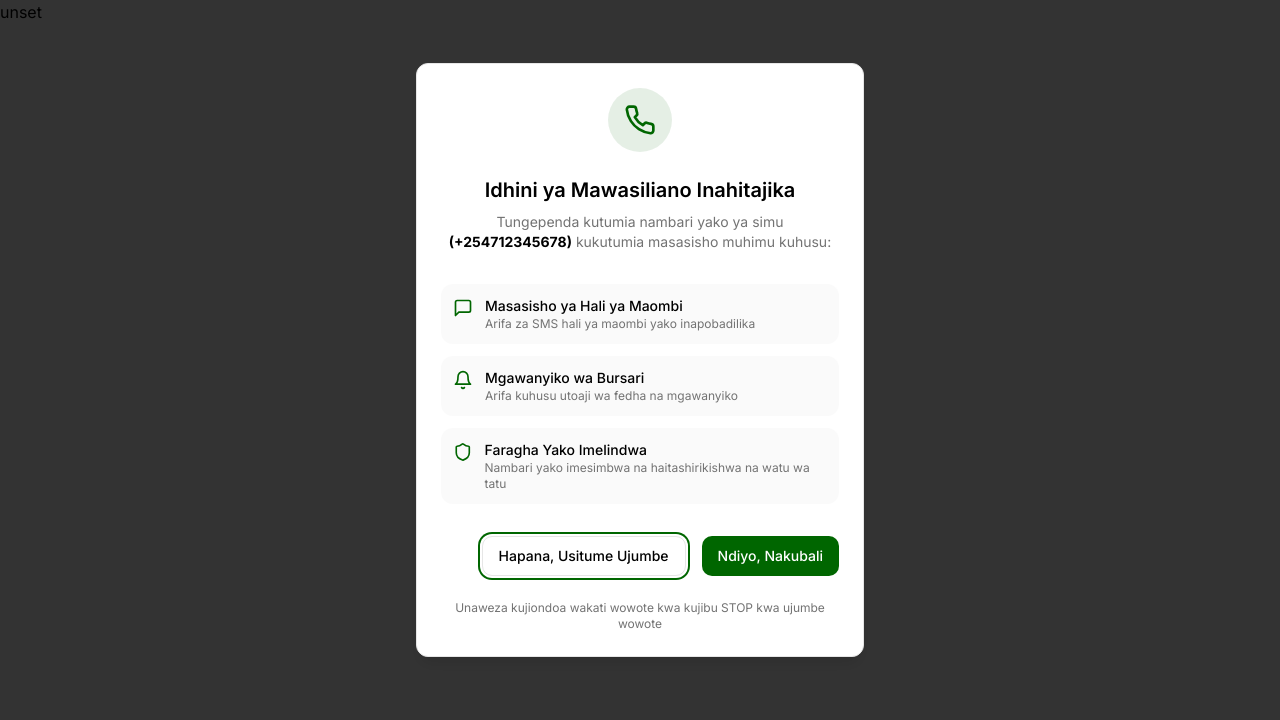
Test: Consent persistence into ApplicationContext › stores consentNotifications=true when the user accepts in Swahili mode
Check: the text with test id "consent-state" reads "unset", box [0, 2, 42, 22]
What coordinates should you click on to do the following:
click the button "Ndiyo, Nakubali"
I would click on:
 (770, 556)
Its box is [702, 536, 839, 576].
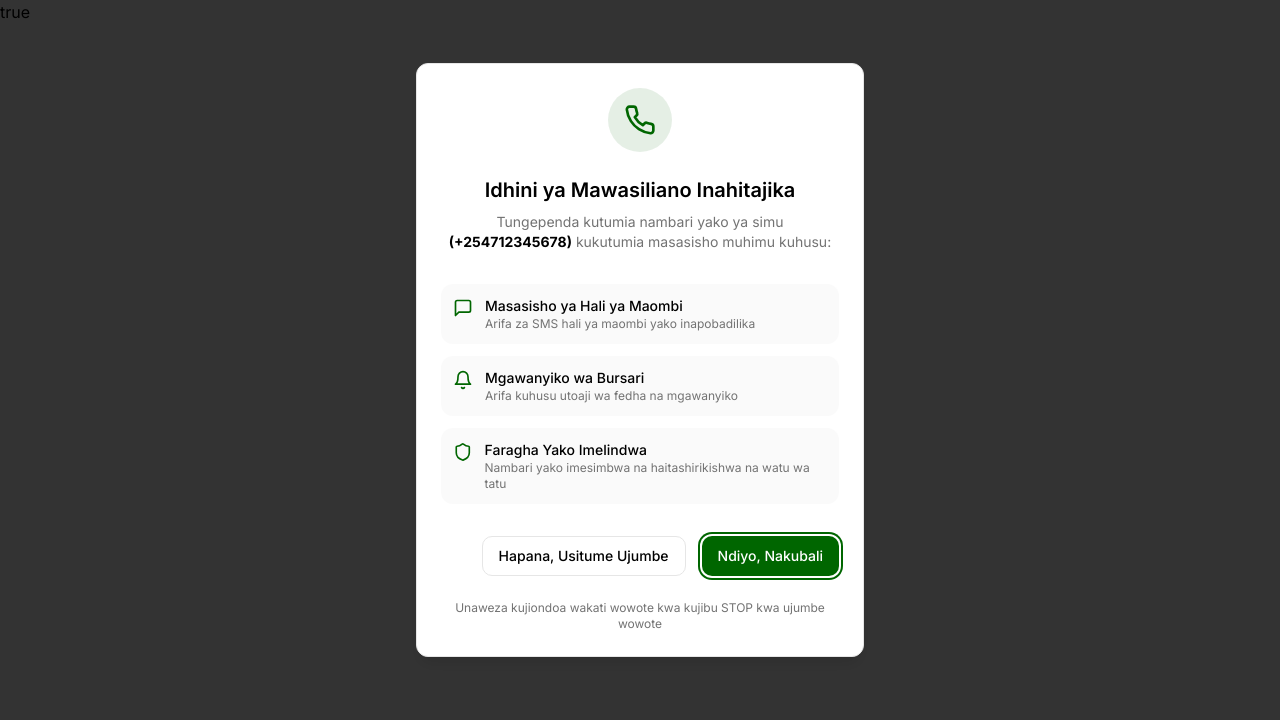
Check: the text with test id "consent-state" reads "true", box [0, 2, 30, 22]
